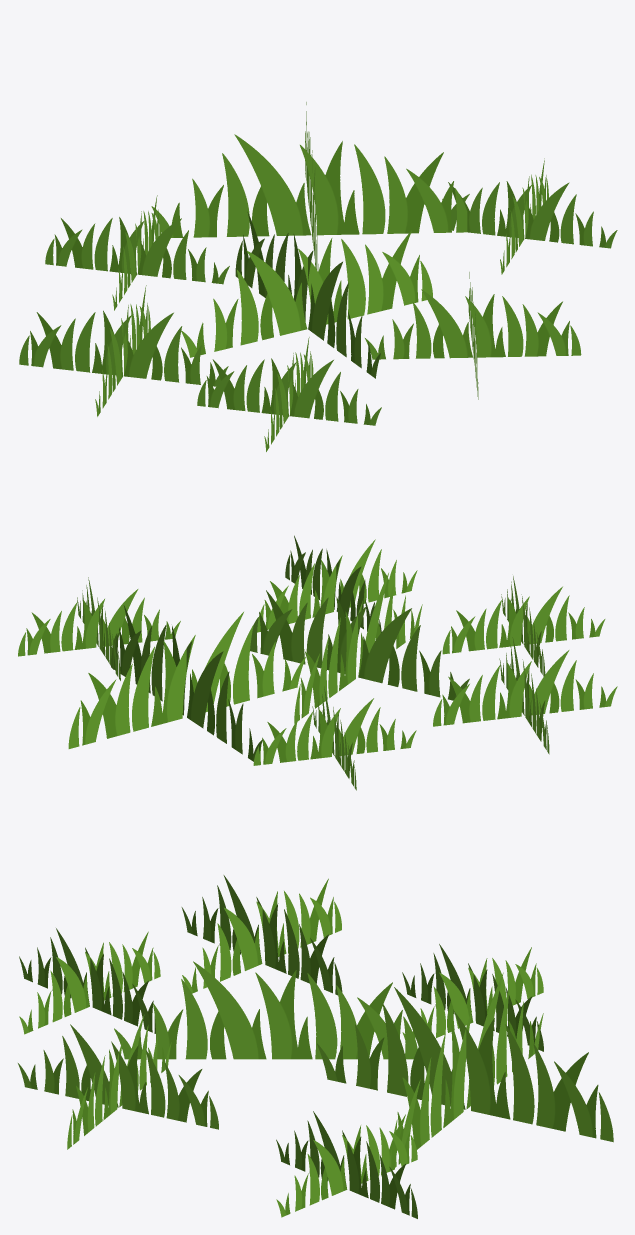
The model's file is SM_tall_grass_clump.fbx.
The picture shows the model from 3 angles, top to bottom: view 1: azimuth 30°, elevation 25°; view 2: azimuth 150°, elevation 25°; view 3: azimuth 270°, elevation 25°; orthographic projection. The views are drawn at different scales.
Parts seen in each view (by area): view 1: T_tall_grass_test.001; view 2: T_tall_grass_test.001; view 3: T_tall_grass_test.001.
Boxes of the visible parts, x1,y1,x2,y2 form: T_tall_grass_test.001: [19, 102, 617, 451]; T_tall_grass_test.001: [18, 535, 617, 790]; T_tall_grass_test.001: [18, 875, 613, 1218].
Bounding box in the file's own units: 4.36 × 3.82 × 1.1.
Materials: 1 (1 with a texture image).
